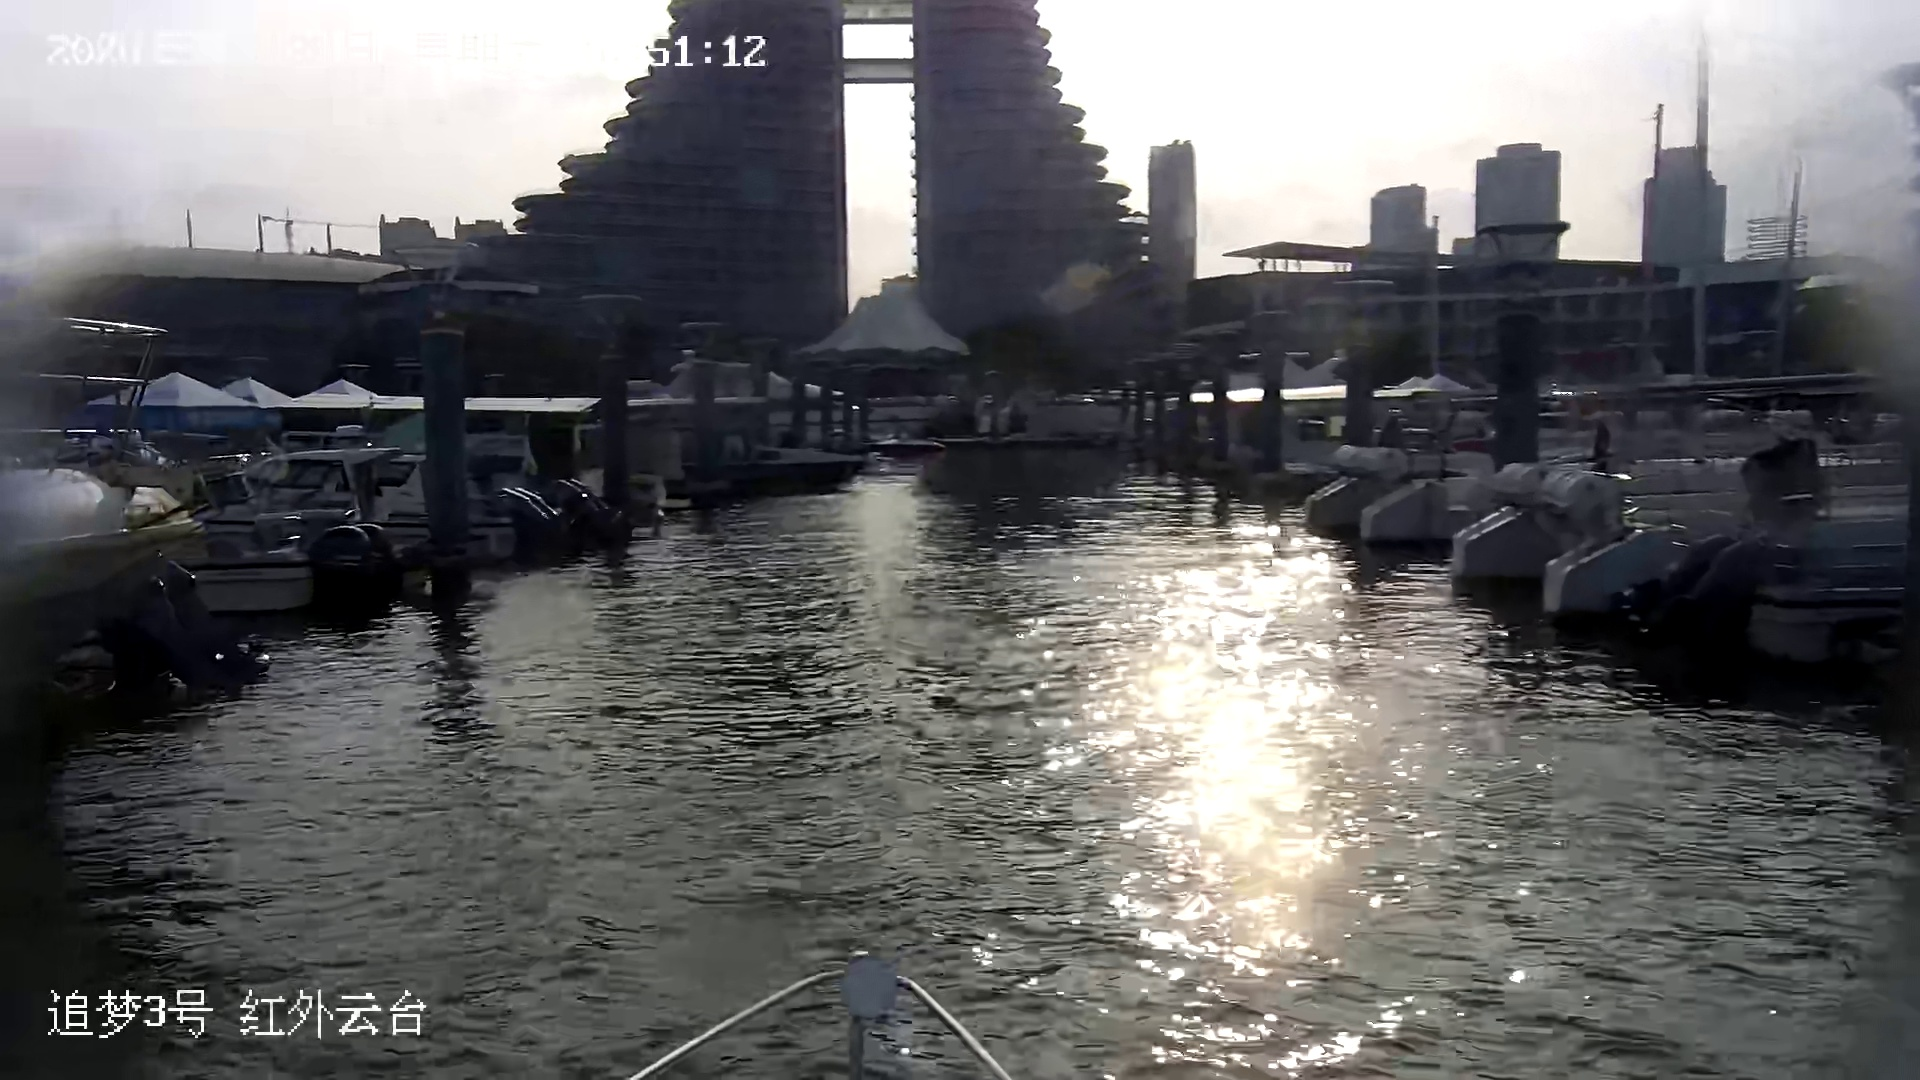coast: (1, 1, 1920, 699)
